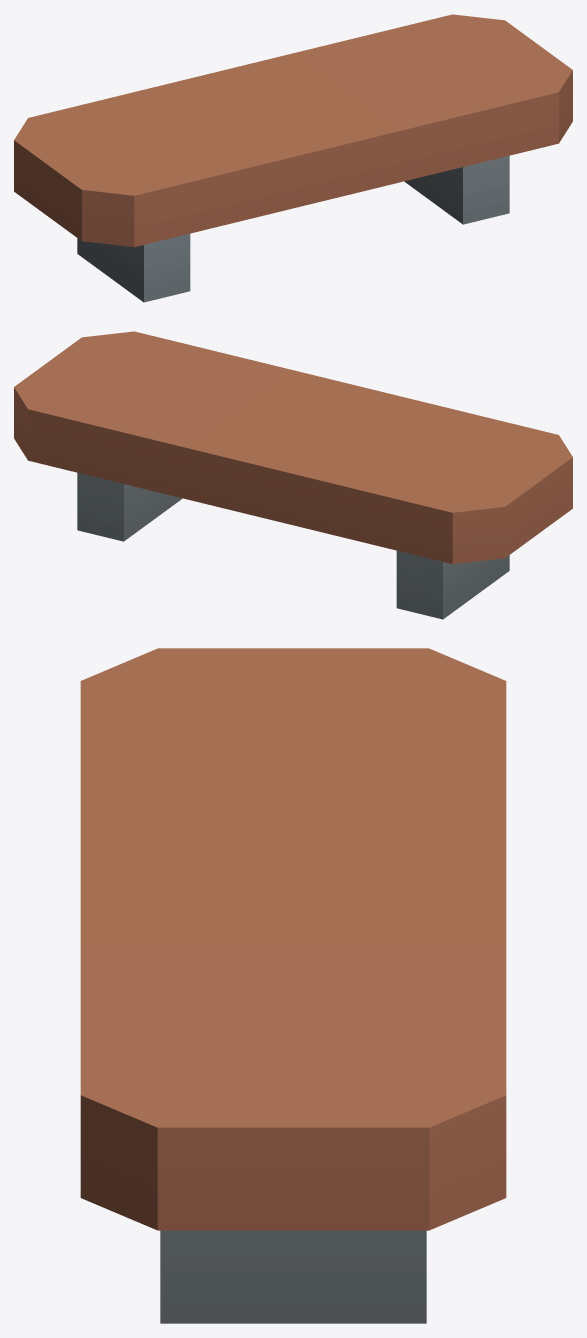
Rendered from bench.glb.
3 renders of one model, top to bottom at view 1: azimuth 30°, elevation 25°; view 2: azimuth 150°, elevation 25°; view 3: azimuth 270°, elevation 25°, orthographic. The views are drawn at different scales.
Parts seen in each view (by area): view 1: bench; view 2: bench; view 3: bench.
Part boxes in pixels (x1=…): bench: x1=14, y1=14, x2=572, y2=302; bench: x1=14, y1=331, x2=572, y2=619; bench: x1=80, y1=648, x2=506, y2=1323.
Bounding box in the file's own units: 0.4 × 0.1 × 0.15.
1 material, 1 textured.
